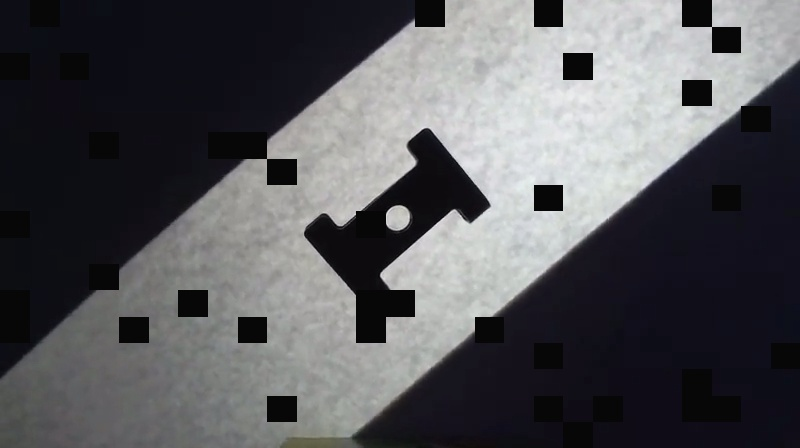O002: (300, 123, 491, 312)
